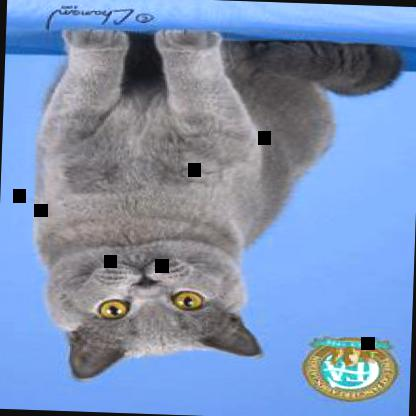cat: (26, 22, 404, 394)
